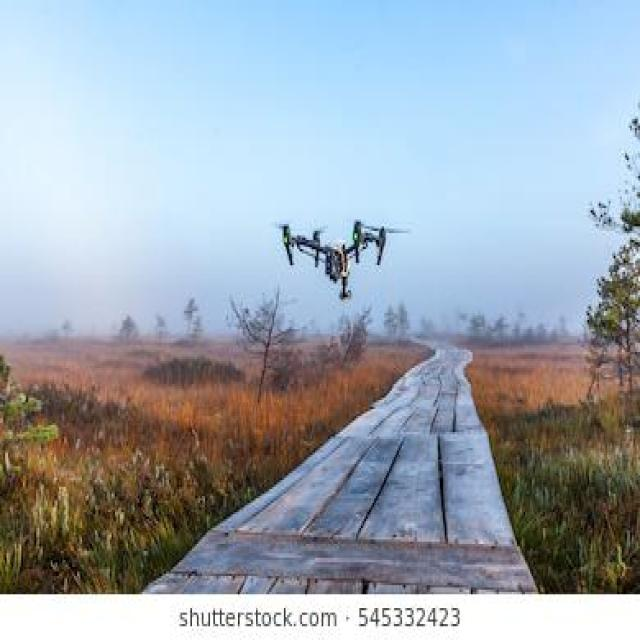drone: (259, 159, 429, 336)
